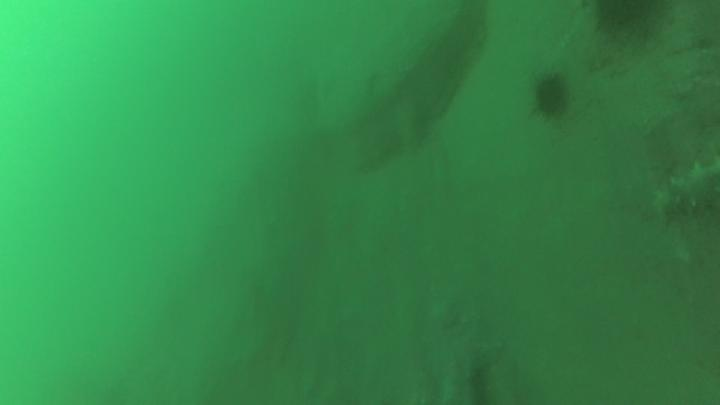echinus: (585, 3, 677, 47), (525, 67, 575, 127)
holothurian: (651, 157, 720, 220)
